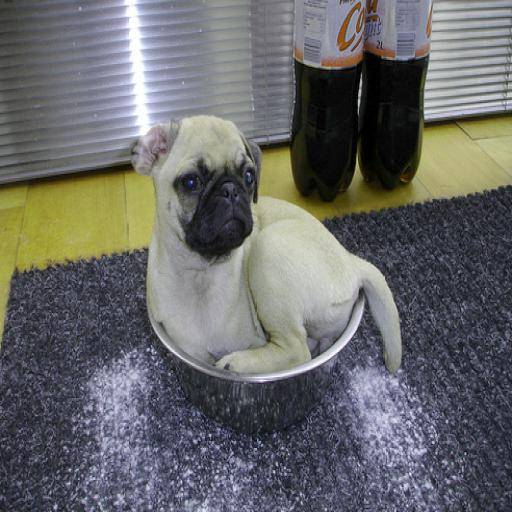dog_face: (127, 113, 267, 264)
